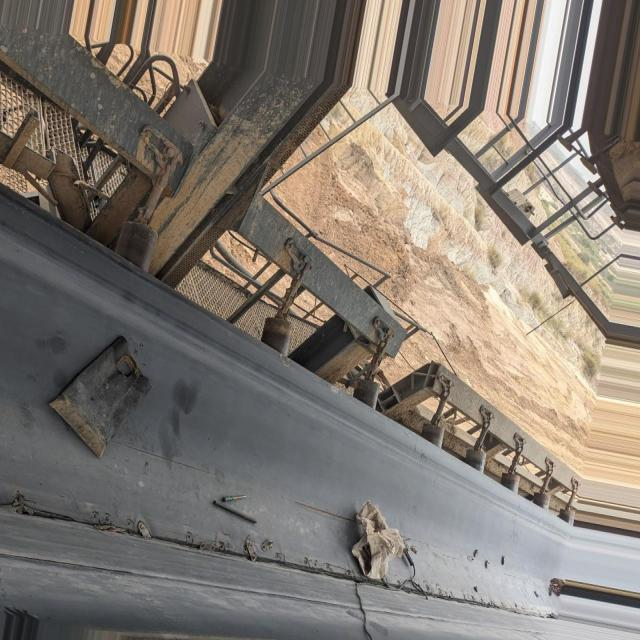Other Objects: (49, 336, 156, 456), (352, 490, 414, 572), (205, 478, 265, 526), (354, 595, 369, 639)
Roller: (117, 220, 162, 270), (261, 316, 292, 348), (355, 380, 385, 405), (468, 443, 487, 470), (427, 419, 444, 440), (532, 491, 549, 510), (560, 506, 576, 523), (511, 470, 515, 489)
Tear: (4, 491, 558, 613)
